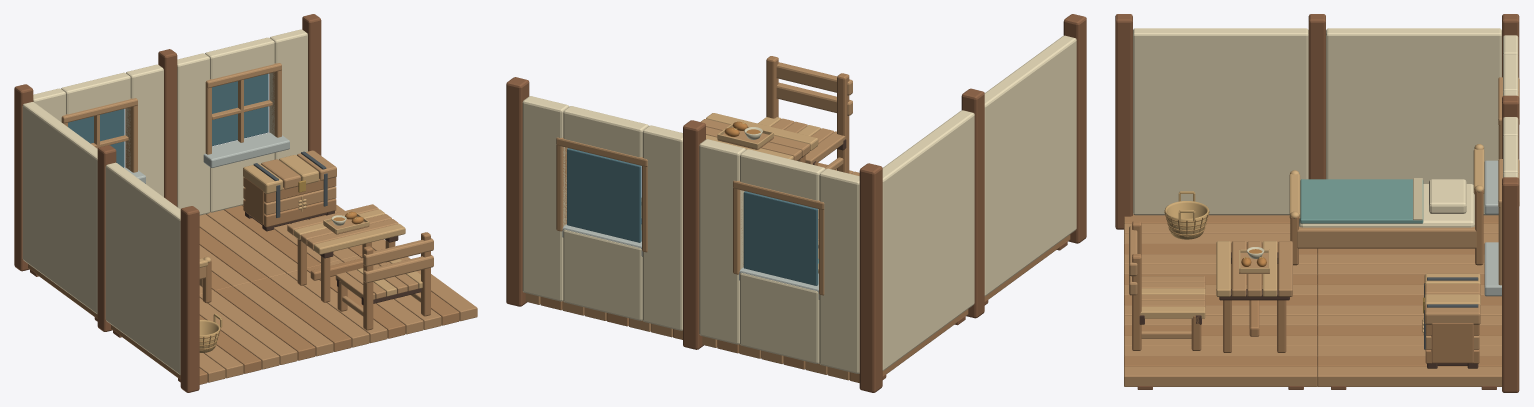
File: cabin_living_4x4m.glb
3 renders of one model, left to right at view 1: azimuth 30°, elevation 25°; view 2: azimuth 150°, elevation 25°; view 3: azimuth 270°, elevation 25°, orthographic. The views are drawn at different scales.
Parts seen in each view (by area): view 1: wall_window_plaster_2m.001, wall_plaster_2m.001, wall_plaster_2m, wall_window_plaster_2m, floor_timber_2m, floor_timber_2m.002, chest, floor_timber_2m.003, chair, table, post_timber_2_4m, post_timber_2_4m.003 (+7 smaller); view 2: wall_window_plaster_2m, wall_window_plaster_2m.001, wall_plaster_2m, wall_plaster_2m.001, chair, post_timber_2_4m.002, post_timber_2_4m.004, post_timber_2_4m.003, post_timber_2_4m, post_timber_2_4m.001, floor_timber_2m.001, table (+3 smaller); view 3: wall_plaster_2m, wall_plaster_2m.001, bed, floor_timber_2m.002, floor_timber_2m.003, floor_timber_2m, floor_timber_2m.001, chest, table, chair, post_timber_2_4m.004, post_timber_2_4m (+7 smaller).
Boxes of the visible parts, bbox=[...] form: wall_window_plaster_2m.001: bbox=[177, 29, 307, 215]; wall_plaster_2m.001: bbox=[22, 102, 97, 314]; wall_plaster_2m: bbox=[105, 162, 180, 374]; wall_window_plaster_2m: bbox=[33, 64, 163, 196]; floor_timber_2m: bbox=[111, 282, 333, 384]; floor_timber_2m.002: bbox=[251, 255, 477, 351]; chest: bbox=[243, 150, 336, 231]; floor_timber_2m.003: bbox=[199, 205, 385, 282]; chair: bbox=[335, 232, 433, 330]; table: bbox=[287, 204, 405, 302]; post_timber_2_4m: bbox=[180, 206, 199, 392]; post_timber_2_4m.003: bbox=[158, 49, 177, 206]; wall_window_plaster_2m: bbox=[699, 139, 859, 373]; wall_window_plaster_2m.001: bbox=[522, 96, 682, 330]; wall_plaster_2m: bbox=[984, 35, 1076, 296]; wall_plaster_2m.001: bbox=[882, 110, 974, 370]; chair: bbox=[758, 56, 852, 173]; post_timber_2_4m.002: bbox=[859, 163, 882, 392]; post_timber_2_4m.004: bbox=[506, 77, 529, 306]; post_timber_2_4m.003: bbox=[683, 120, 705, 349]; post_timber_2_4m: bbox=[1063, 14, 1086, 243]; post_timber_2_4m.001: bbox=[961, 88, 984, 318]; floor_timber_2m.001: bbox=[702, 309, 968, 382]; table: bbox=[701, 113, 818, 162]; wall_plaster_2m: bbox=[1133, 28, 1308, 215]; wall_plaster_2m.001: bbox=[1326, 28, 1501, 215]; bed: bbox=[1289, 144, 1484, 265]; floor_timber_2m.002: bbox=[1124, 295, 1317, 389]; floor_timber_2m.003: bbox=[1317, 295, 1501, 389]; floor_timber_2m: bbox=[1124, 214, 1317, 295]; floor_timber_2m.001: bbox=[1317, 215, 1498, 295]; chest: bbox=[1422, 273, 1480, 368]; table: bbox=[1216, 241, 1292, 352]; chair: bbox=[1129, 221, 1205, 350]; post_timber_2_4m.004: bbox=[1502, 177, 1519, 392]; post_timber_2_4m: bbox=[1115, 14, 1132, 229].
Size of the model in its own units: 4.18 by 2.4 by 4.18.
